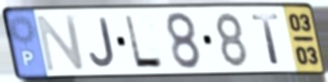8: (163, 10, 203, 71), (213, 10, 252, 70)
J: (88, 16, 117, 69)
L: (122, 13, 167, 70)
N: (34, 12, 88, 74)
T: (249, 12, 283, 66)
